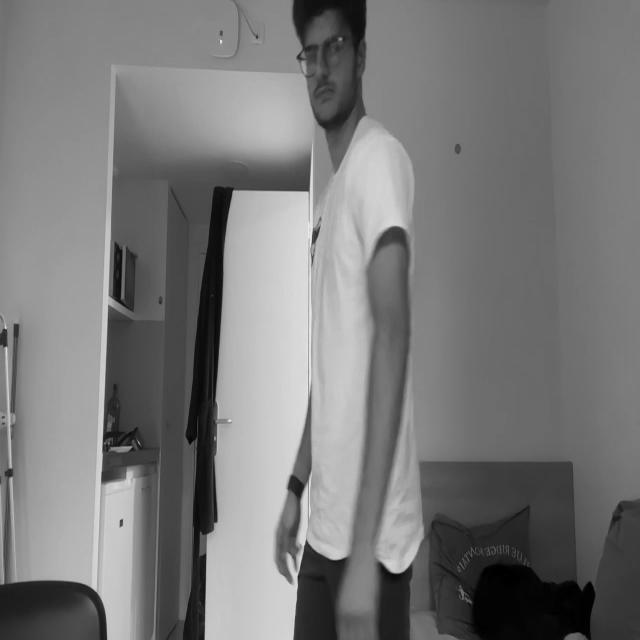elbow: (374, 302, 411, 361)
hand: (334, 549, 382, 640), (274, 486, 302, 587)
shoulder: (358, 144, 410, 225)
